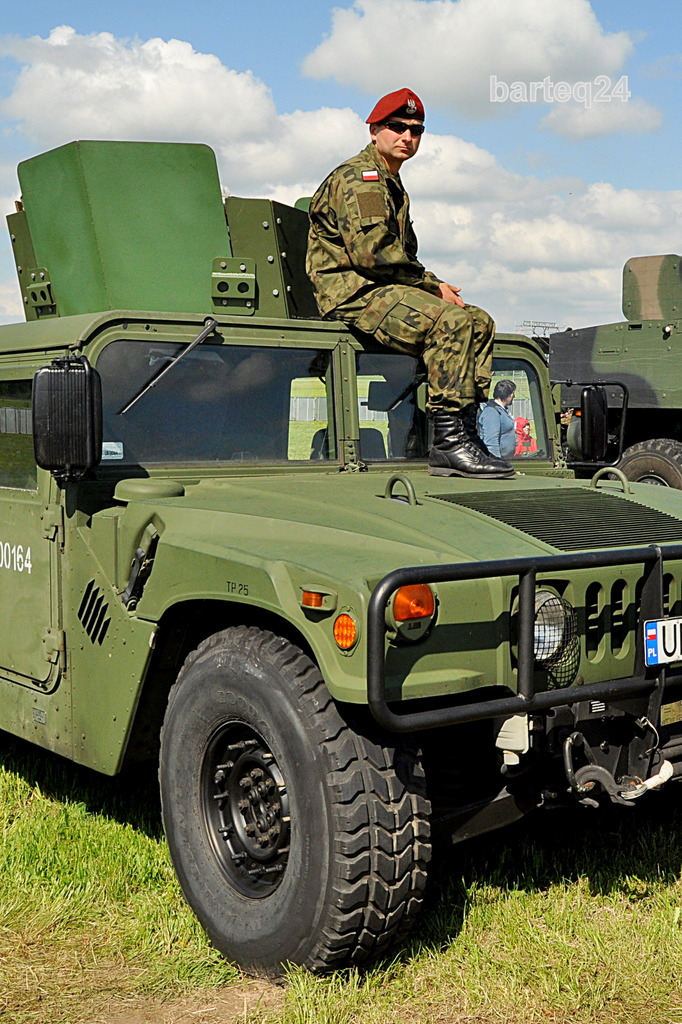Person: (304, 87, 516, 478), (478, 381, 513, 457), (514, 418, 539, 458)
